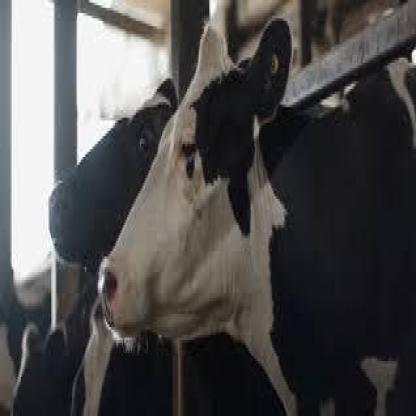cow: (100, 23, 416, 416), (49, 80, 180, 273)
